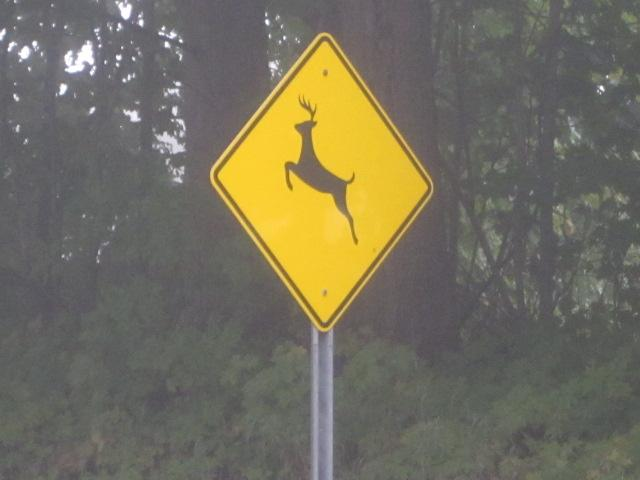warning: (212, 33, 435, 334)
